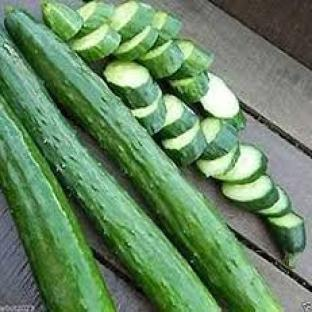Cucumber: (6, 9, 280, 311), (0, 36, 220, 311), (0, 96, 114, 311), (104, 61, 159, 108), (215, 144, 267, 184), (268, 212, 306, 266), (222, 175, 278, 211), (163, 121, 206, 166), (71, 25, 121, 61), (202, 73, 239, 118), (160, 95, 198, 138), (140, 41, 183, 78), (132, 89, 166, 135), (173, 41, 214, 78), (114, 26, 158, 60), (202, 118, 237, 160), (196, 145, 240, 177), (169, 72, 209, 104), (257, 187, 291, 217), (152, 12, 182, 45), (225, 109, 247, 131)
